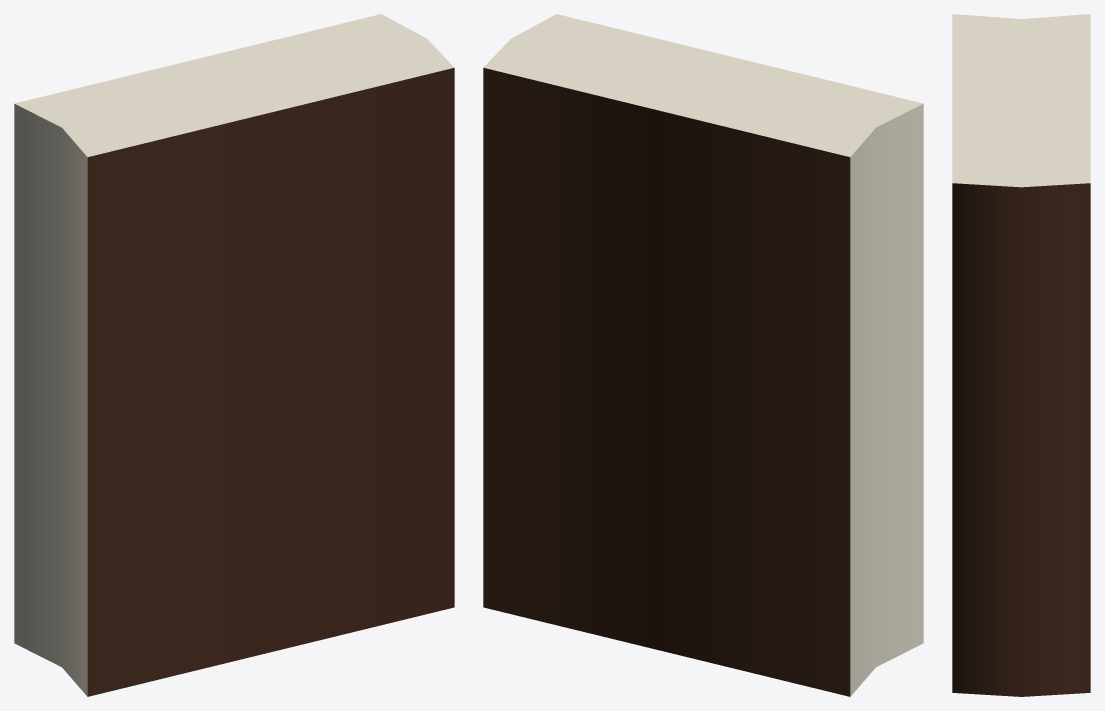
File: book_dbrown.fbx
3 views of the same model, side by side, from view 1: azimuth 30°, elevation 25°; view 2: azimuth 150°, elevation 25°; view 3: azimuth 270°, elevation 25° (orthographic). The views are drawn at different scales.
Parts seen in each view (by area): view 1: Book; view 2: Book; view 3: Book.
Boxes of the visible parts, box(x1,y1,x2,y2) form: Book: box(14, 14, 454, 696); Book: box(483, 14, 923, 696); Book: box(952, 14, 1090, 696).
Bounding box in the file's own units: 7.4 × 21.9 × 30.03.
